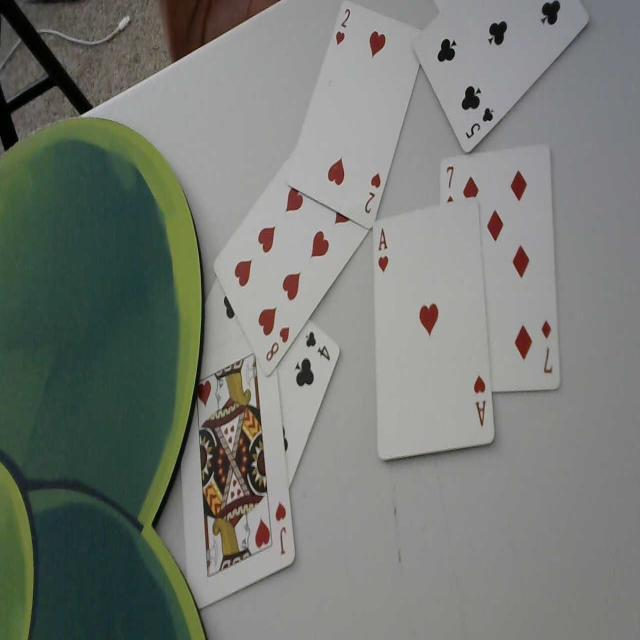2H: (363, 168, 381, 220), (333, 4, 351, 48)
4C: (303, 324, 335, 368)
5C: (462, 102, 496, 142)
7D: (539, 317, 555, 378)
8H: (263, 320, 291, 368)
AH: (469, 366, 490, 432), (376, 221, 393, 282)
JH: (272, 496, 292, 556)
